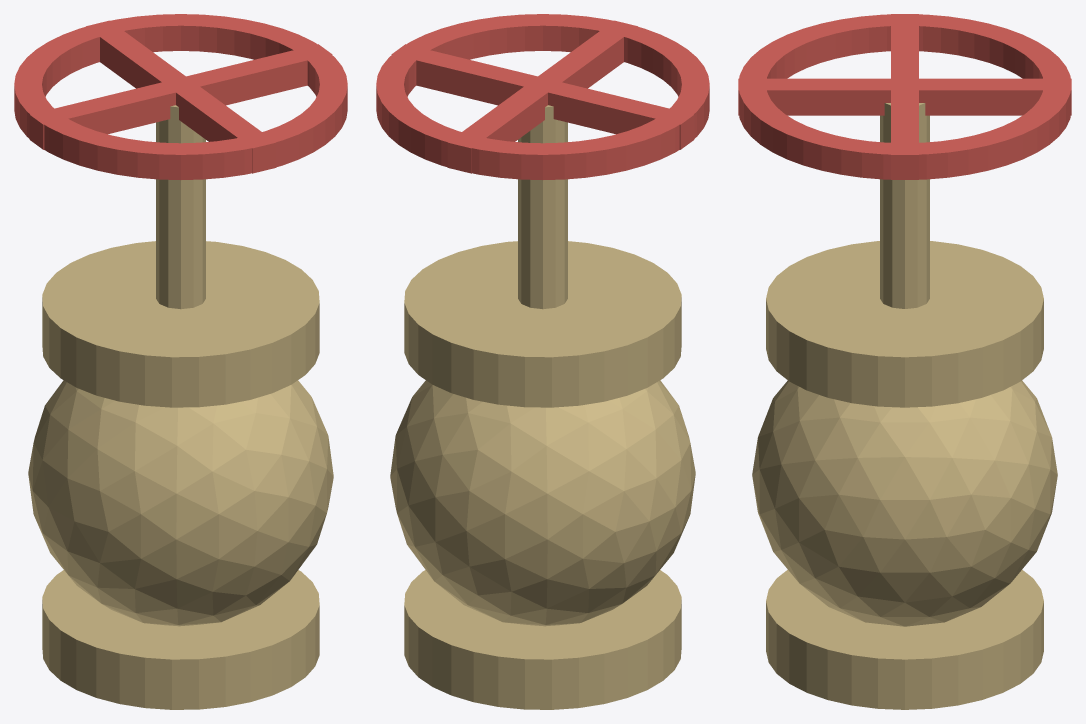
The model's file is valve.glb.
3 renders of one model, left to right at view 1: azimuth 30°, elevation 25°; view 2: azimuth 150°, elevation 25°; view 3: azimuth 270°, elevation 25°, orthographic.
Visible parts, largest first — view 1: ValveBody, ValveWheel; view 2: ValveBody, ValveWheel; view 3: ValveBody, ValveWheel.
Part boxes in pixels (x1=…): ValveBody: x1=28, y1=105, x2=333, y2=709; ValveWheel: x1=14, y1=14, x2=347, y2=179; ValveBody: x1=390, y1=105, x2=695, y2=709; ValveWheel: x1=376, y1=14, x2=709, y2=179; ValveBody: x1=752, y1=103, x2=1057, y2=709; ValveWheel: x1=738, y1=14, x2=1071, y2=179.
Size of the model in its own units: 0.24 by 0.45 by 0.24.
